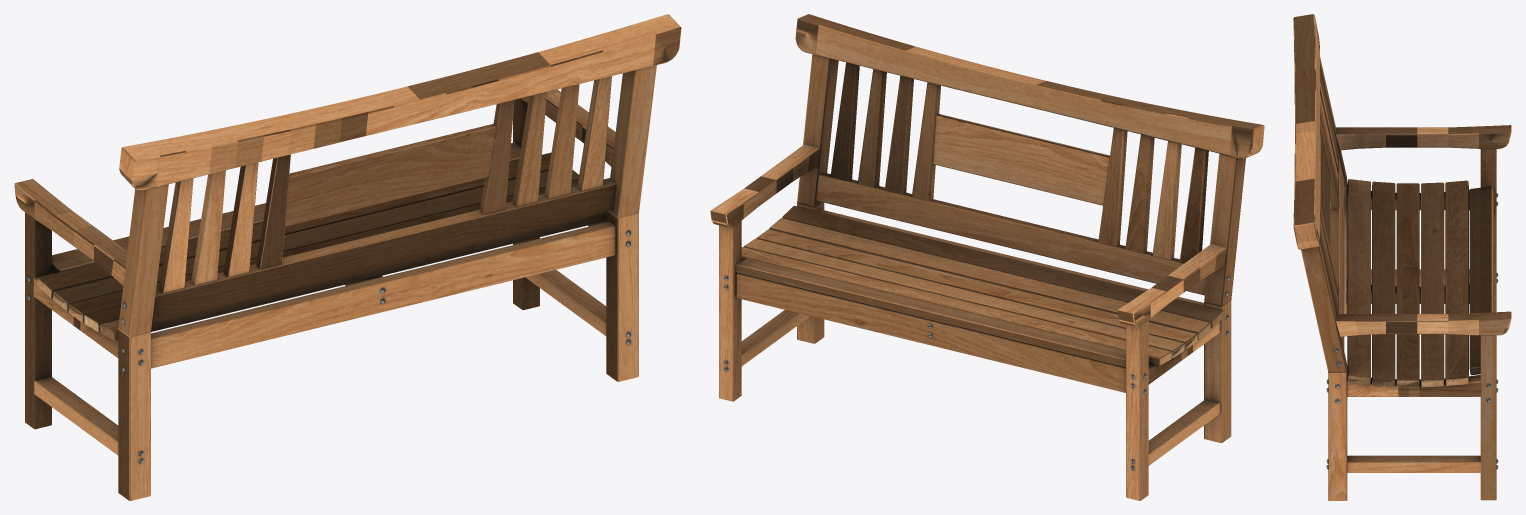
File: Cgtuts_Wood_Bench_OBJ.fbx
The picture shows the model from 3 angles, left to right: view 1: azimuth 30°, elevation 25°; view 2: azimuth 150°, elevation 25°; view 3: azimuth 270°, elevation 25°; orthographic projection. The views are drawn at different scales.
Visible parts, largest first — view 1: Cgtuts_Wood_Bench_OBJ_obj; view 2: Cgtuts_Wood_Bench_OBJ_obj; view 3: Cgtuts_Wood_Bench_OBJ_obj.
Part boxes in pixels (<box>): Cgtuts_Wood_Bench_OBJ_obj: <box>14,14,681,500</box>; Cgtuts_Wood_Bench_OBJ_obj: <box>710,14,1264,500</box>; Cgtuts_Wood_Bench_OBJ_obj: <box>1293,14,1511,500</box>.
Size of the model in its own units: 261 by 166 by 115.
1 material, 1 textured.
